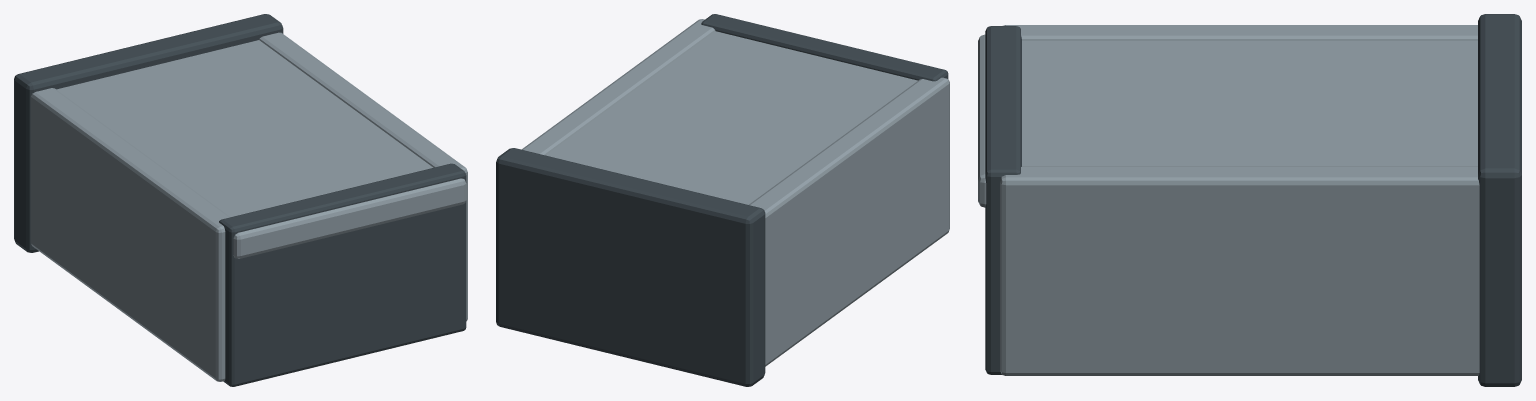
Rendered from power_cell_cradle_derelict_v1.glb.
3 renders of one model, left to right at view 1: azimuth 30°, elevation 25°; view 2: azimuth 150°, elevation 25°; view 3: azimuth 270°, elevation 25°, orthographic. The views are drawn at different scales.
Parts seen in each view (by area): view 1: CradleBack, CradleTop, CradleLeft, CradleBase, CradleRight; view 2: CradleBase, CradleBack, CradleLeft, CradleRight, CradleTop; view 3: CradleRight, CradleBack, CradleBase, CradleTop, CradleLeft.
Part boxes in pixels (x1,y1,x2,y2): CradleBack: [56, 40, 466, 258]; CradleTop: [219, 163, 466, 386]; CradleLeft: [30, 88, 230, 381]; CradleBase: [14, 14, 283, 252]; CradleRight: [259, 32, 467, 321]; CradleBase: [496, 148, 765, 386]; CradleBack: [546, 31, 917, 204]; CradleLeft: [749, 77, 949, 366]; CradleRight: [521, 19, 715, 155]; CradleTop: [701, 14, 948, 81]; CradleRight: [1000, 166, 1479, 375]; CradleBack: [978, 34, 1477, 207]; CradleBase: [1478, 14, 1521, 386]; CradleTop: [985, 26, 1021, 374]; CradleLeft: [1003, 25, 1477, 40].
Size of the model in its own units: 1.04 by 0.6625 by 1.49.
